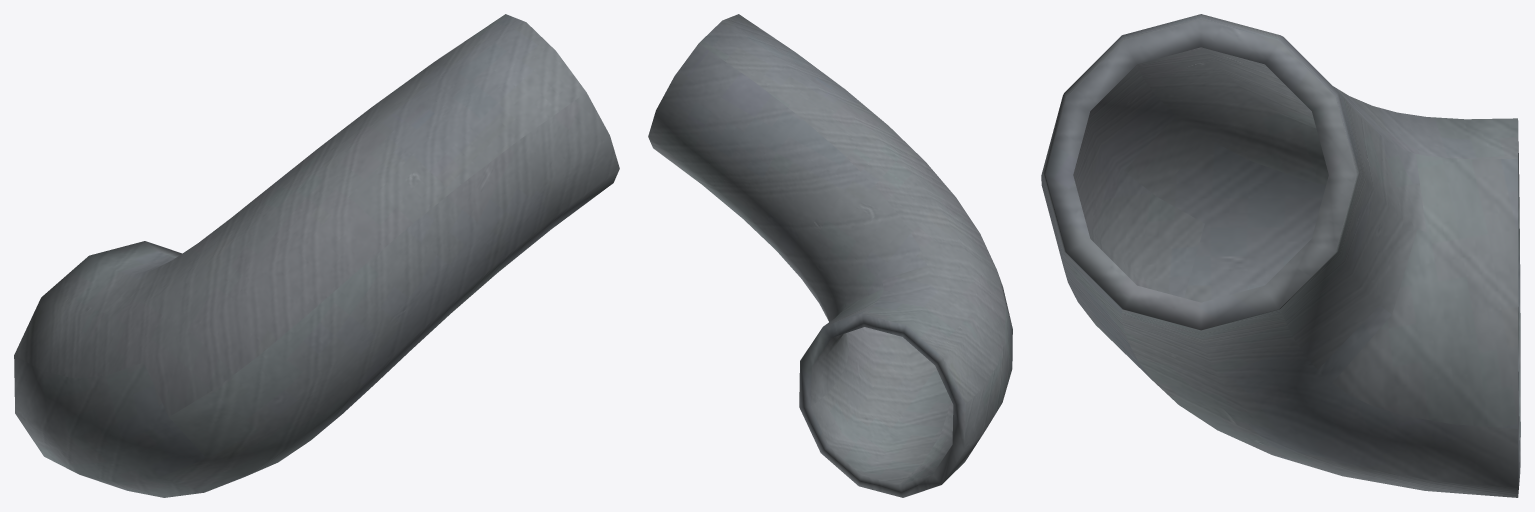
The model's file is TurboCharger_Big_Exhaust_Outlet_Straight_Pipe.obj.
3 views of the same model, side by side, from view 1: azimuth 30°, elevation 25°; view 2: azimuth 150°, elevation 25°; view 3: azimuth 270°, elevation 25° (orthographic). The views are drawn at different scales.
Parts seen in each view (by area): view 1: TurboCharger_Big_Exhaust_Outlet_Straight_BezierCurve.001; view 2: TurboCharger_Big_Exhaust_Outlet_Straight_BezierCurve.001; view 3: TurboCharger_Big_Exhaust_Outlet_Straight_BezierCurve.001.
Part boxes in pixels (box(x1,y1,x2,y2)): TurboCharger_Big_Exhaust_Outlet_Straight_BezierCurve.001: box(14, 14, 619, 497); TurboCharger_Big_Exhaust_Outlet_Straight_BezierCurve.001: box(648, 14, 1012, 497); TurboCharger_Big_Exhaust_Outlet_Straight_BezierCurve.001: box(1041, 14, 1520, 497).
Size of the model in its own units: 0.1542 by 0.138 by 0.0874.
